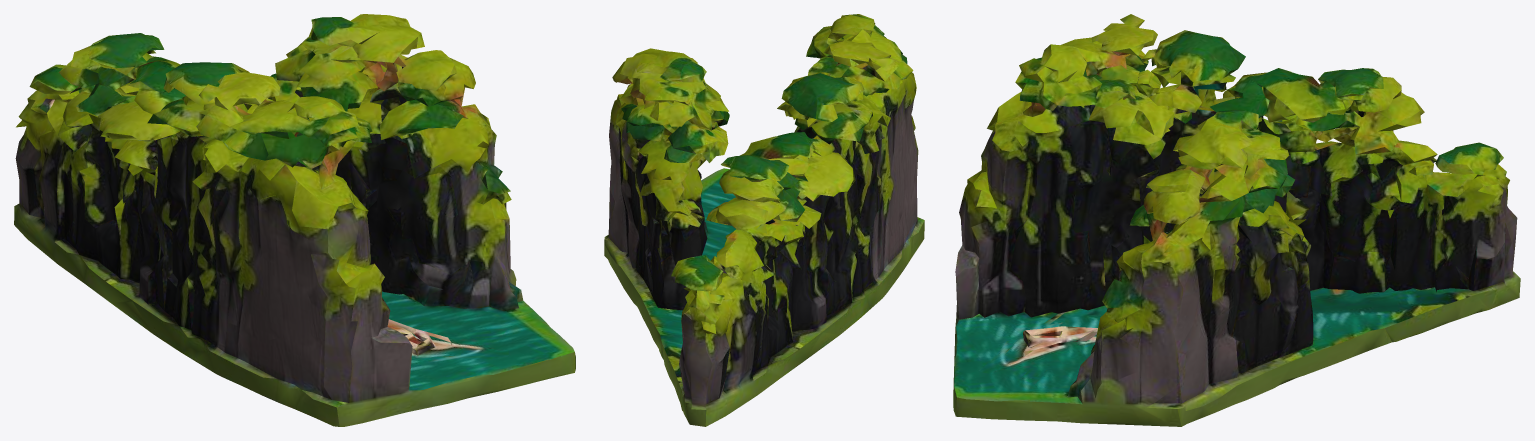
Rendered from takachiho-gorge.glb.
3 views of the same model, side by side, from view 1: azimuth 30°, elevation 25°; view 2: azimuth 150°, elevation 25°; view 3: azimuth 270°, elevation 25° (orthographic). The views are drawn at different scales.
Visible parts, largest first — view 1: logan-textured.obj; view 2: logan-textured.obj; view 3: logan-textured.obj.
Boxes of the visible parts, x1,y1,x2,y2 form: logan-textured.obj: (14,14,575,426); logan-textured.obj: (604,14,924,426); logan-textured.obj: (953,14,1520,426).
Bounding box in the file's own units: 0.6474 × 0.5327 × 1.
1 material, 1 textured.
